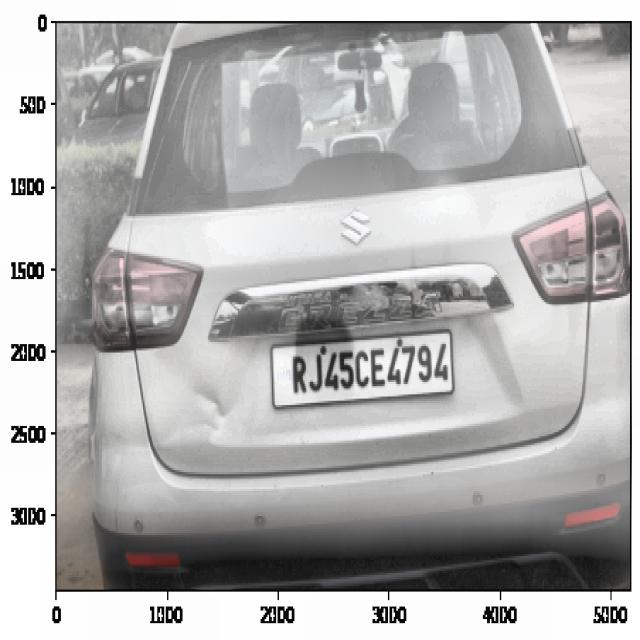license_plate: (279, 338, 454, 401)
